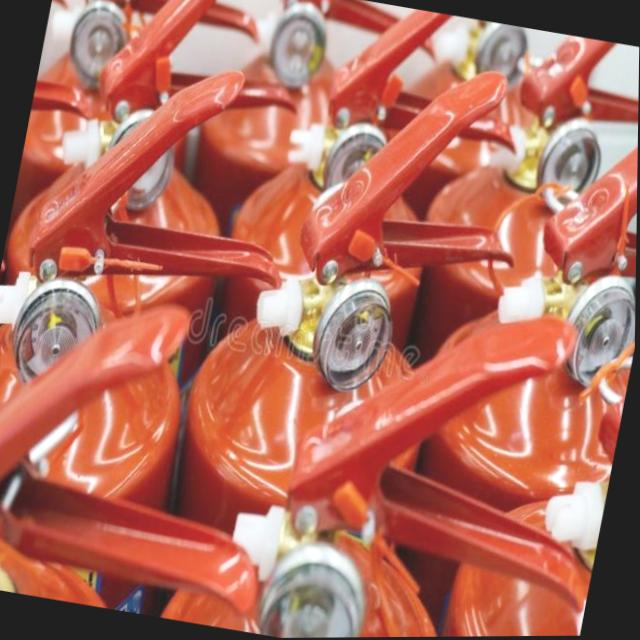FireExtinguisher: (136, 22, 552, 639), (0, 35, 318, 627), (160, 255, 636, 639), (344, 67, 639, 638)
